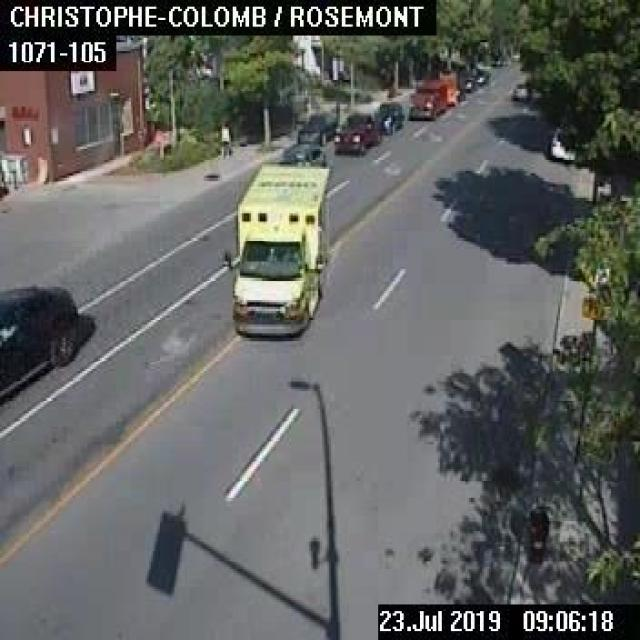pedestrian: (216, 116, 229, 160)
vehicle: (220, 162, 330, 336), (0, 284, 78, 398), (333, 112, 380, 153), (406, 79, 445, 118), (295, 111, 335, 144), (279, 142, 325, 165), (374, 101, 404, 132), (549, 126, 574, 159), (473, 67, 489, 83), (512, 82, 528, 98), (459, 75, 474, 89)
